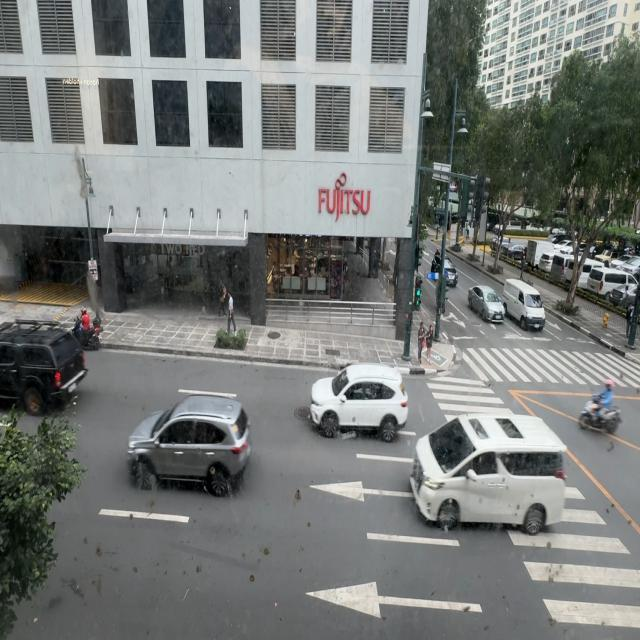waiting: (418, 322, 427, 363), (426, 326, 434, 363)
